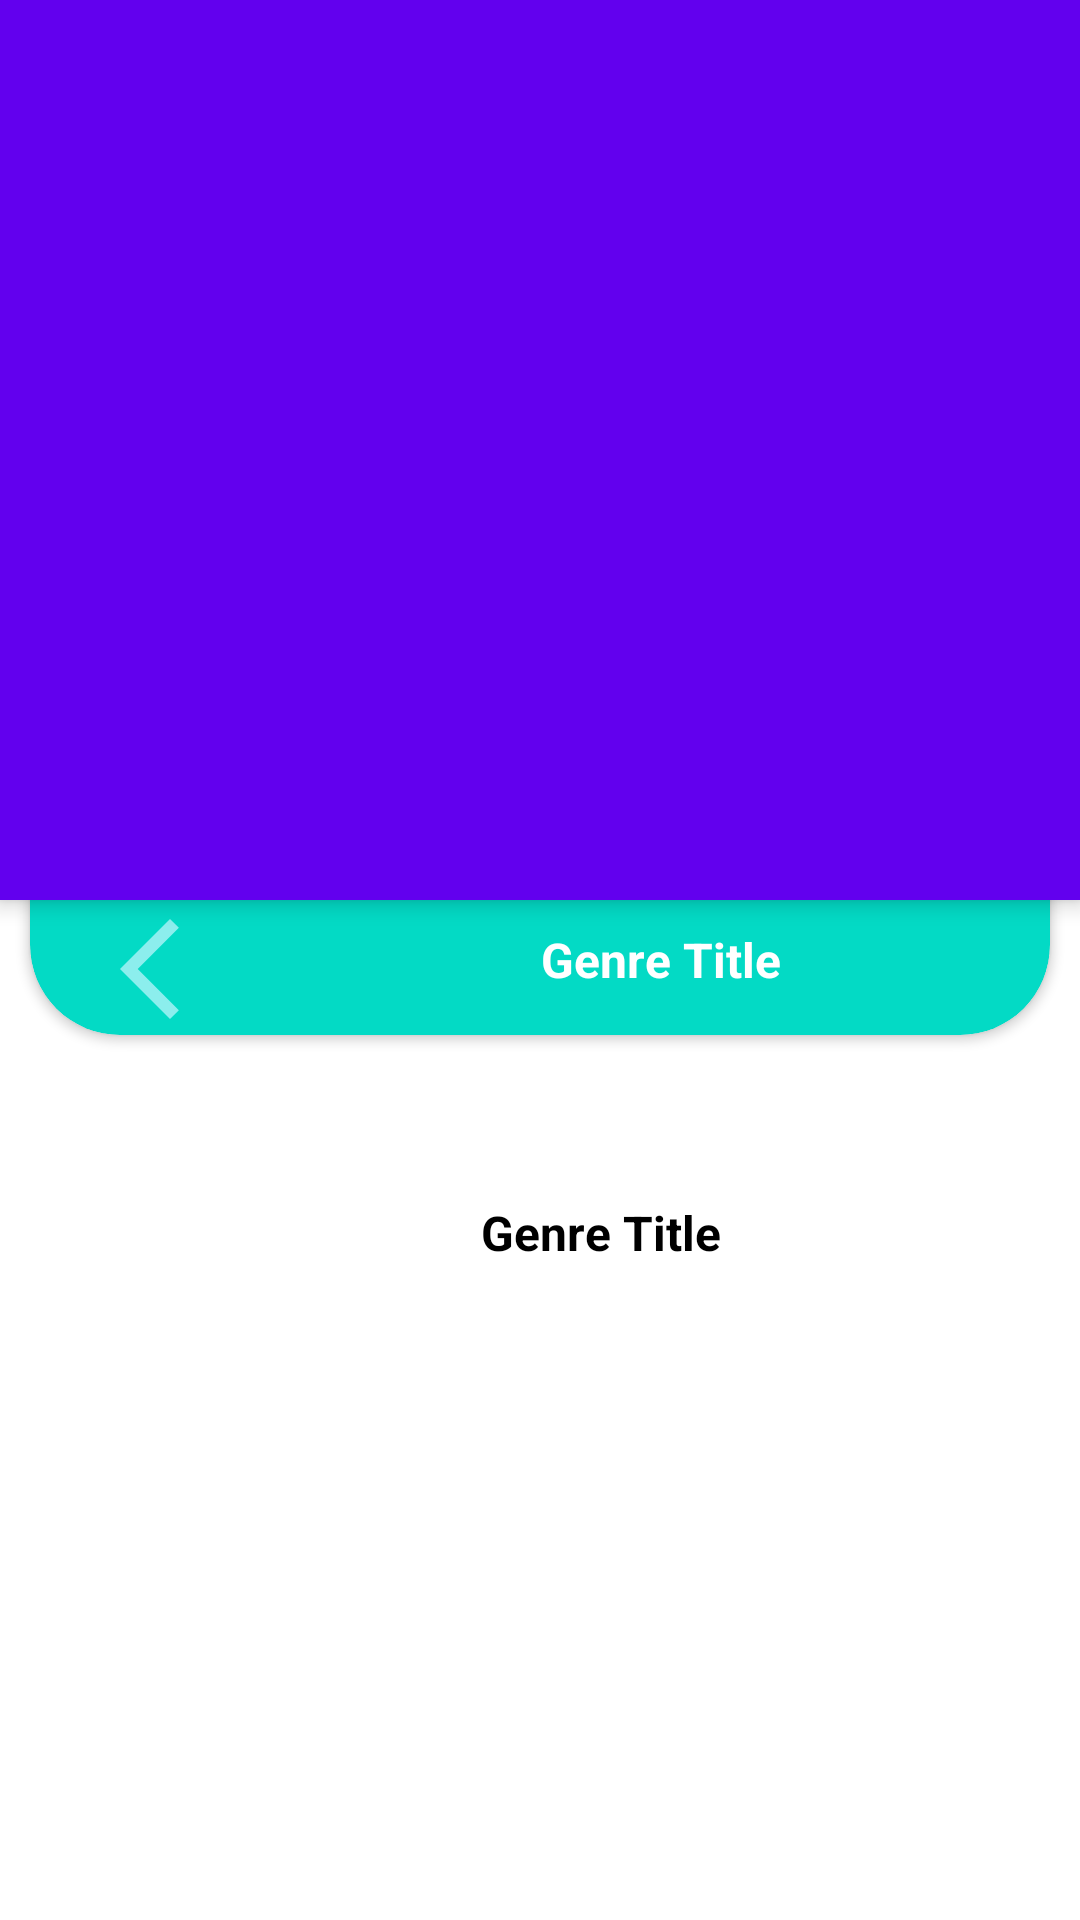

Where icons sit on this 1080 x 1920 app screen, as (x1, y1, x2, y2):
arrow back: (120, 919, 179, 1019)
